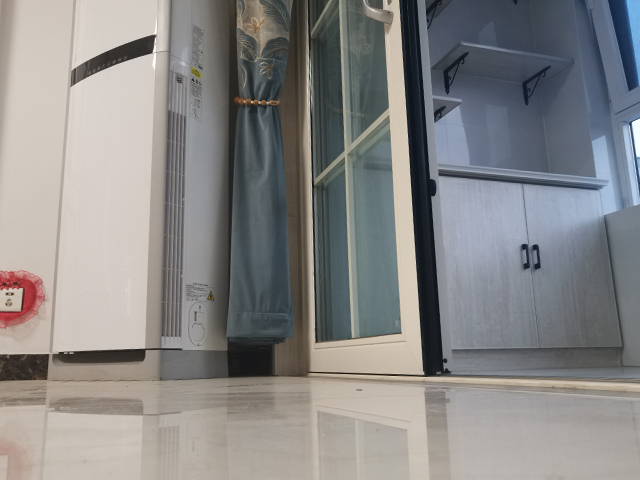cabinet: (429, 160, 626, 369)
curtain: (229, 1, 296, 347)
